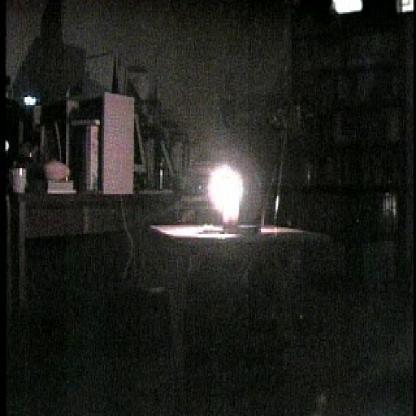fire: (182, 137, 262, 255)
